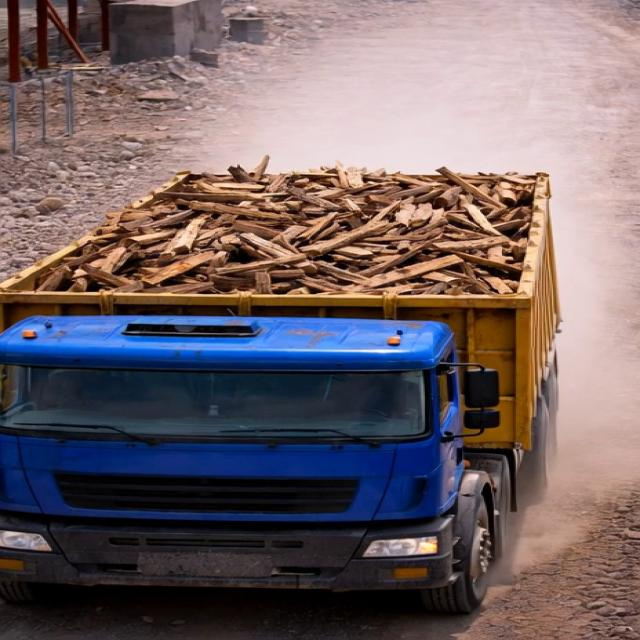trailer: (0, 156, 562, 325)
truck: (0, 153, 584, 609)
